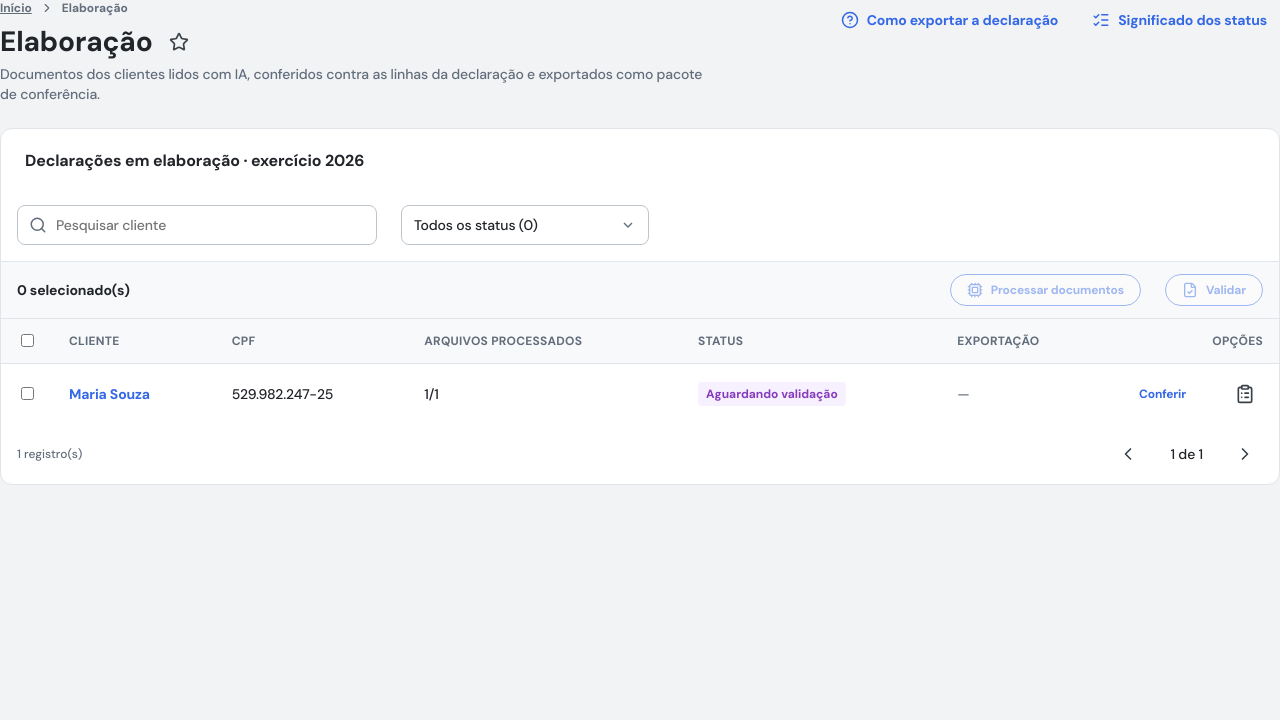
Test: ElaborationPage: permissões iguais às do servidor (CON-14) › pre_declaration.create processa e valida, sem decidir linhas
Expected: the link "Maria Souza" is shown, [69,385,150,403]
Expected: the button "Processar documentos" is shown, [950,274,1141,306]
Click the button "Conferir": (1162, 394) [1122,378,1203,410]
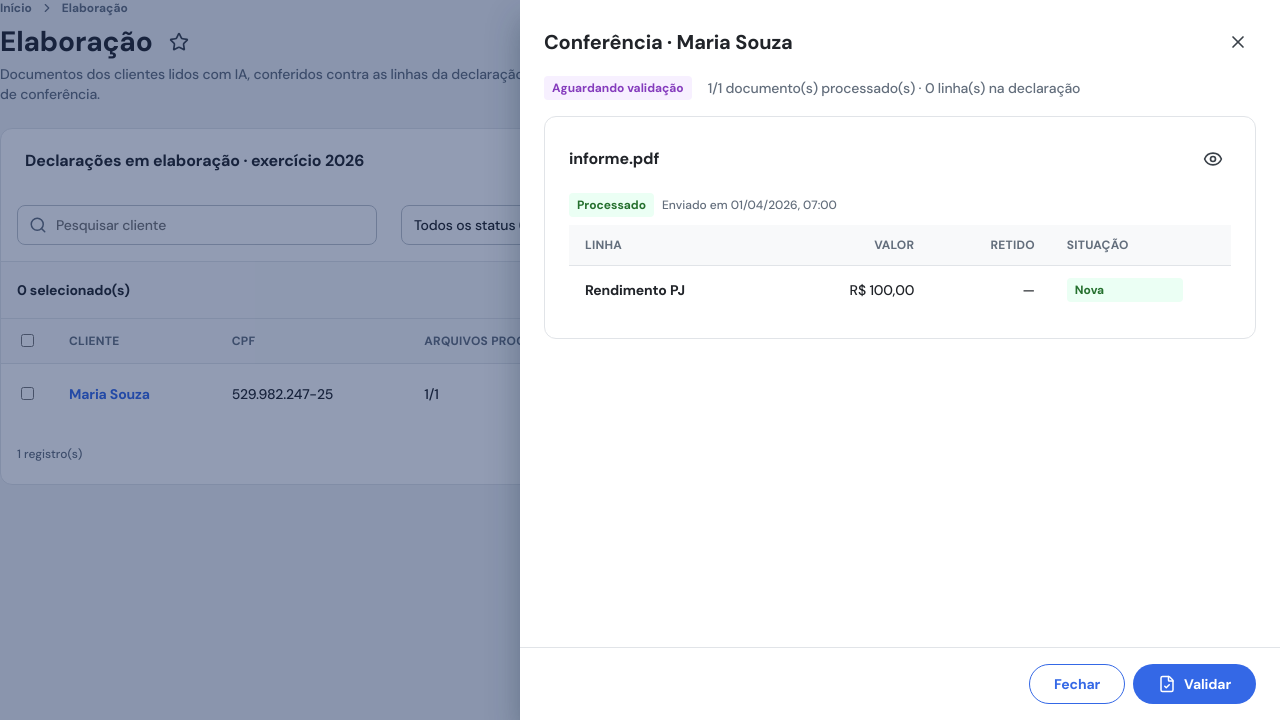
Expected: the text "Rendimento PJ" is shown, [585,281,685,299]
Expected: the button "Validar" is shown, [1133,664,1256,704]
